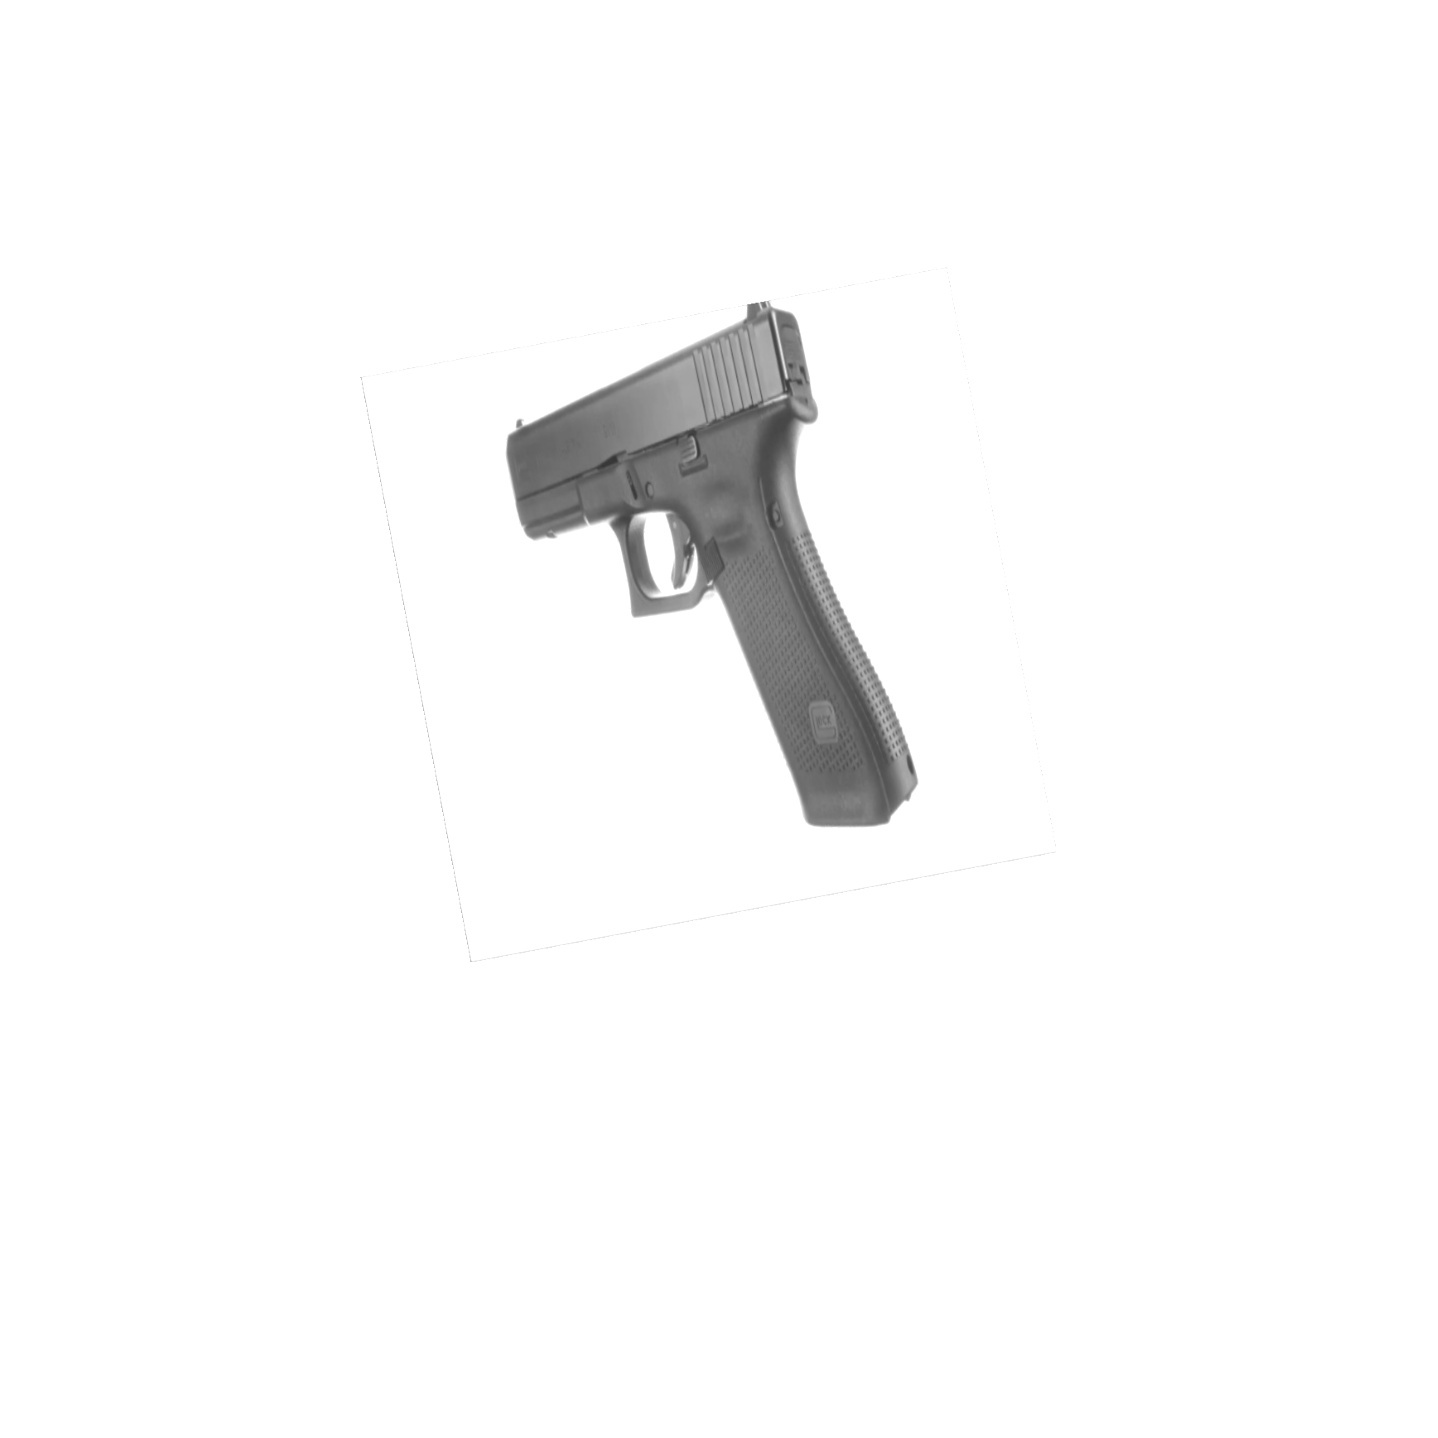gun: (504, 303, 917, 826)
